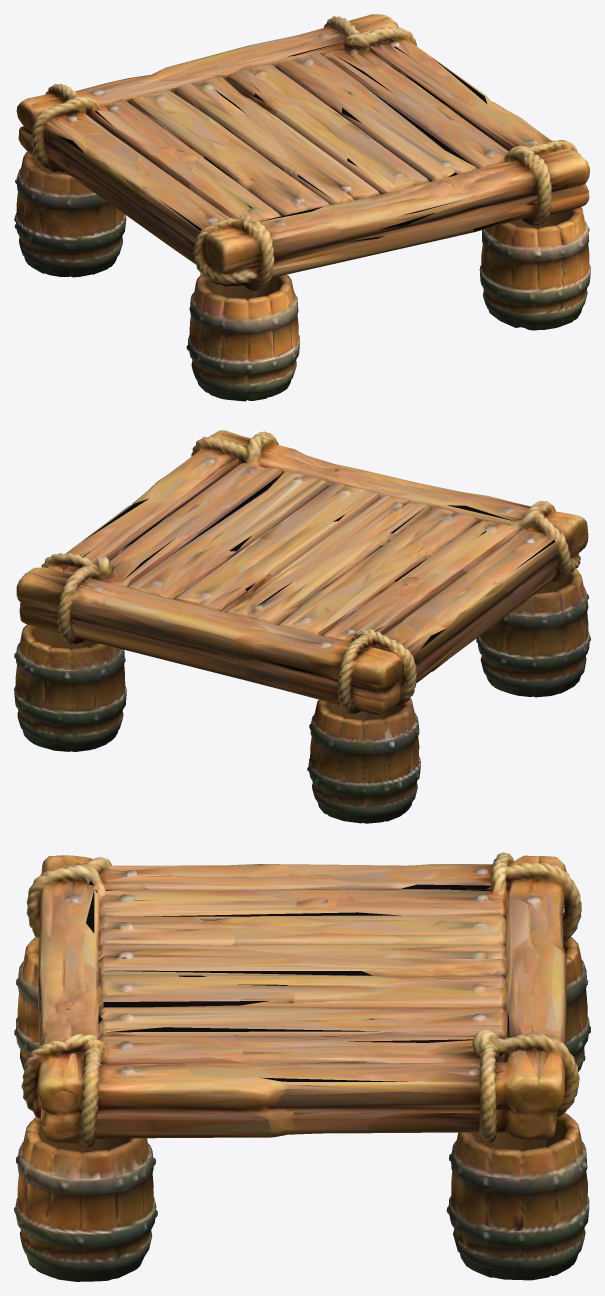
File: plat_kare.glb
3 renders of one model, top to bottom at view 1: azimuth 30°, elevation 25°; view 2: azimuth 150°, elevation 25°; view 3: azimuth 270°, elevation 25°, orthographic. The views are drawn at different scales.
Visible parts, largest first — view 1: tripo_node_a09cf8aa-e59a-4f49-b302-591fcb965b26; view 2: tripo_node_a09cf8aa-e59a-4f49-b302-591fcb965b26; view 3: tripo_node_a09cf8aa-e59a-4f49-b302-591fcb965b26.
Part boxes in pixels (x1,y1,x2,y2): tripo_node_a09cf8aa-e59a-4f49-b302-591fcb965b26: (14, 14, 590, 401); tripo_node_a09cf8aa-e59a-4f49-b302-591fcb965b26: (14, 430, 590, 823); tripo_node_a09cf8aa-e59a-4f49-b302-591fcb965b26: (14, 852, 590, 1281).
Bounding box in the file's own units: 0.9783 × 0.4041 × 0.9791.
Materials: 1 (1 with a texture image).
